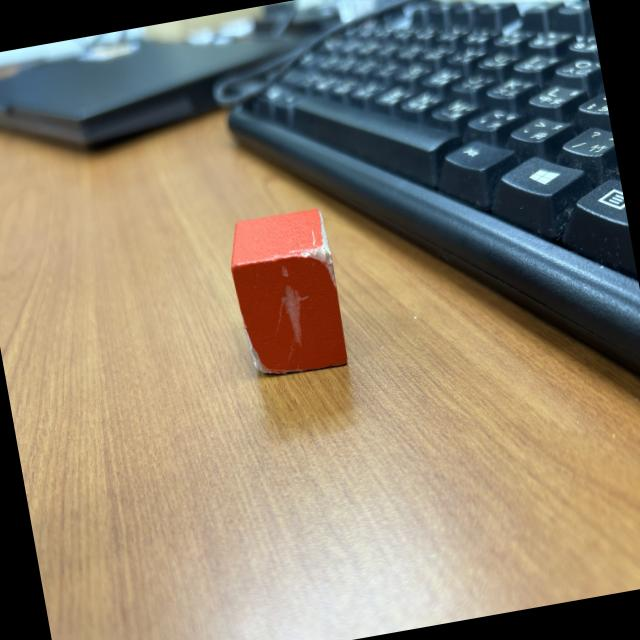broken: (224, 206, 350, 382)
